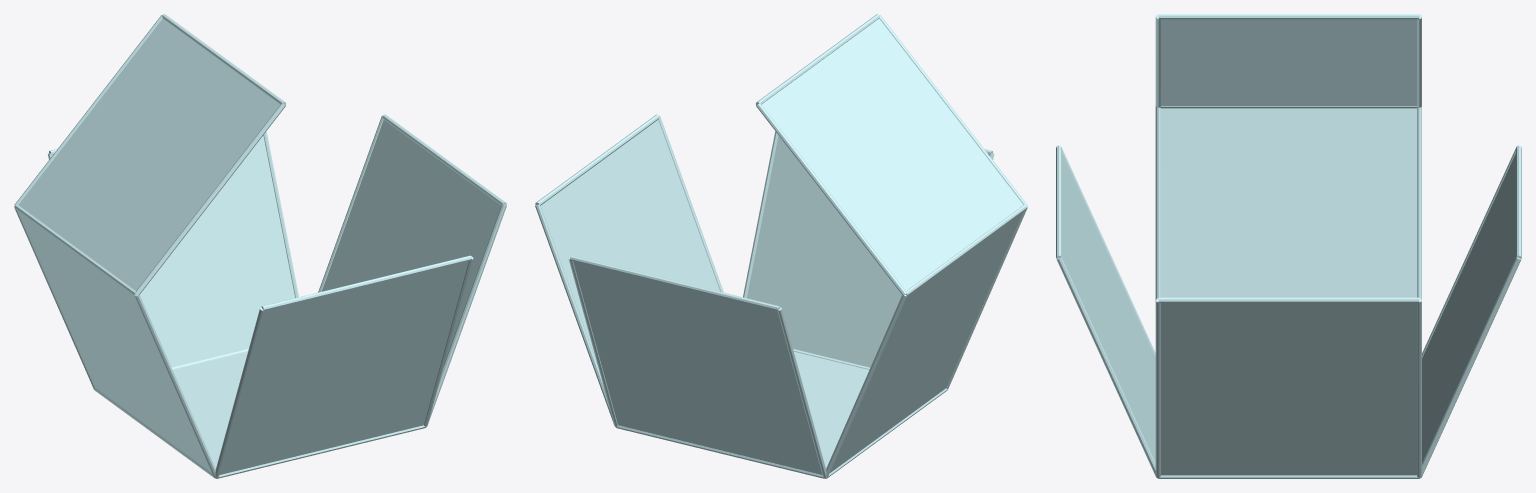
File: jaring kubus 75.glb
The picture shows the model from 3 angles, left to right: view 1: azimuth 30°, elevation 25°; view 2: azimuth 150°, elevation 25°; view 3: azimuth 270°, elevation 25°; orthographic projection. The views are drawn at different scales.
Size of the model in its own units: 40.61 by 37.56 by 40.61.
